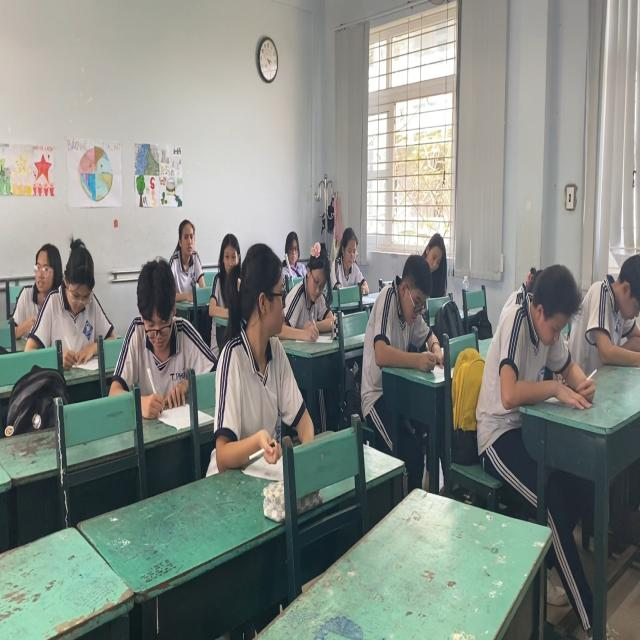cheating: (205, 232, 306, 460)
not_cheating: (494, 250, 580, 419), (119, 254, 195, 419), (22, 229, 110, 347), (288, 218, 339, 343), (374, 264, 434, 364), (164, 208, 207, 308), (326, 212, 370, 292), (422, 232, 456, 285)
